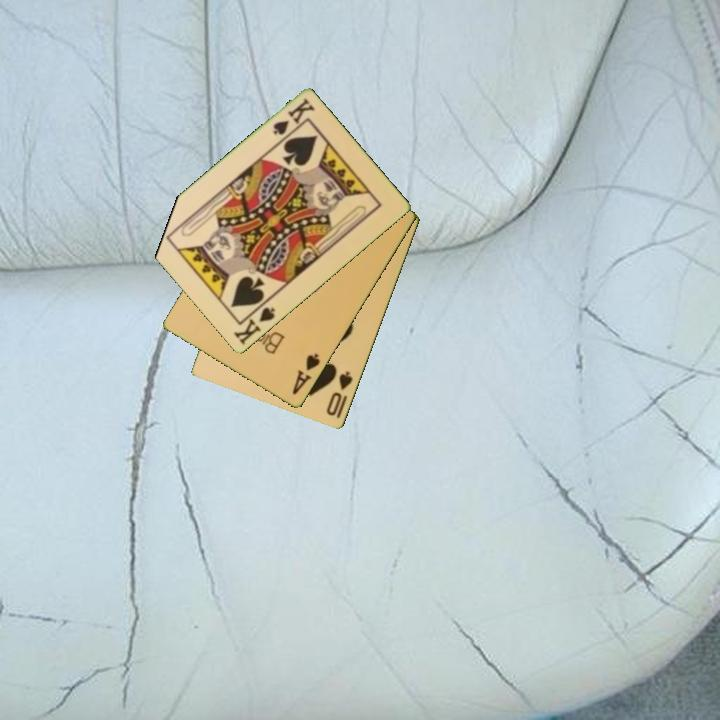10s: (323, 368, 356, 419)
As: (289, 350, 323, 398)
Ks: (230, 297, 278, 349), (269, 95, 318, 139)
